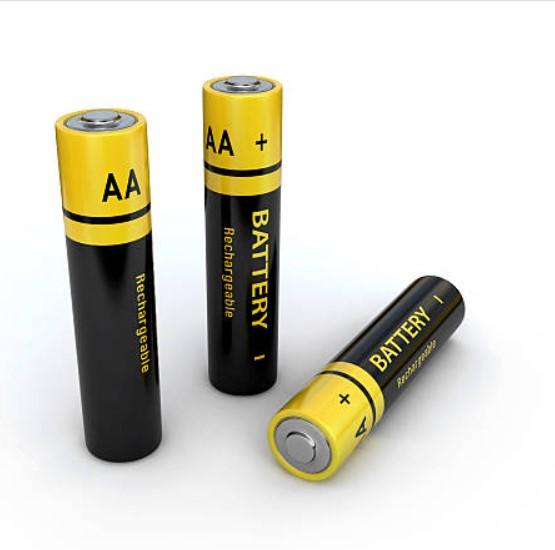Battery: (269, 277, 465, 482), (55, 109, 162, 463), (204, 75, 282, 396)
